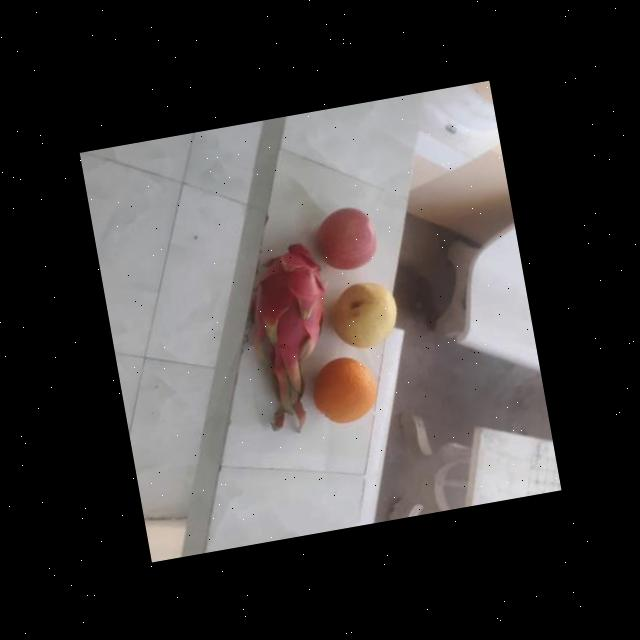apple: (311, 199, 382, 274)
orange: (307, 348, 382, 428)
pear: (322, 270, 402, 356)
pitaya: (244, 230, 338, 361)
